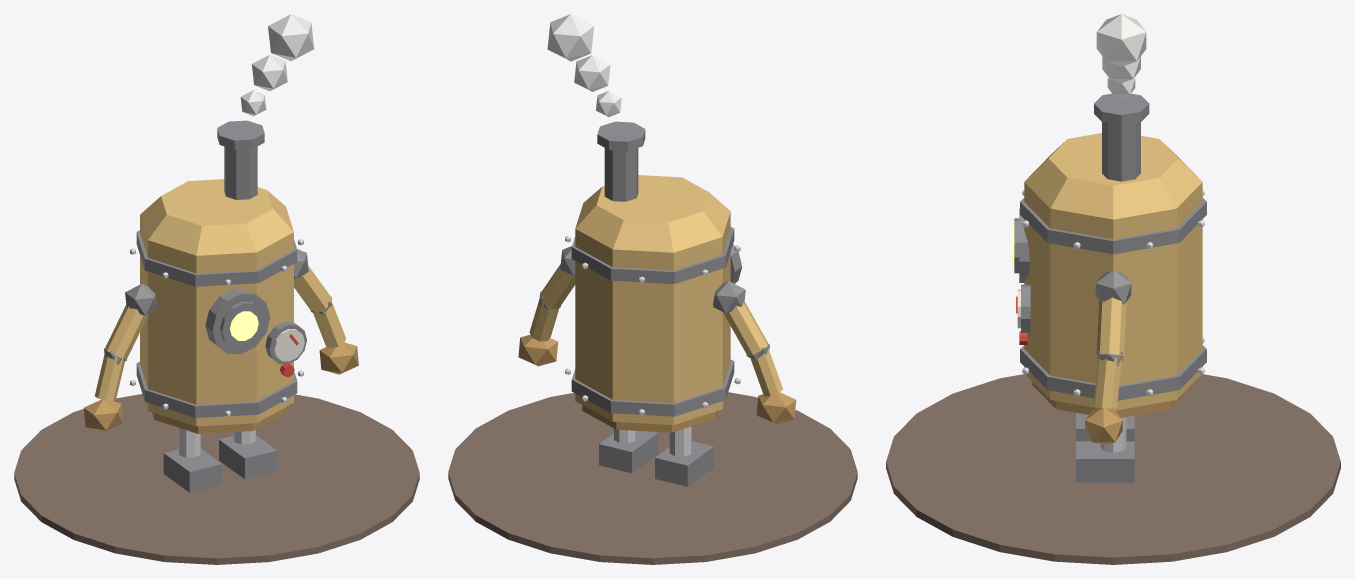
3 renders of one model, left to right at view 1: azimuth 30°, elevation 25°; view 2: azimuth 150°, elevation 25°; view 3: azimuth 270°, elevation 25°, orthographic. The views are drawn at different scales.
Visible parts, largest first — view 1: Ground, Body, Body_Top, Band_0, Band_1, Foot_L, Foot_R, Chimney, Eye_Frame, Steam_2, UpperArm_L, Chimney_Cap (+14 smaller); view 2: Ground, Body, Body_Top, Band_1, Band_0, Foot_L, Foot_R, Chimney, Steam_2, UpperArm_L, Chimney_Cap, Body_Bottom (+9 smaller); view 3: Ground, Body, Body_Top, Band_0, Band_1, Foot_R, Chimney, Steam_2, UpperArm_R, Chimney_Cap, LowerArm_R, Hand_R (+4 smaller).
Boxes of the visible parts, x1,y1,x2,y2 form: Ground: (14, 394, 419, 564); Body: (140, 215, 293, 426); Body_Top: (140, 179, 293, 255); Band_0: (136, 230, 297, 286); Band_1: (136, 361, 297, 417); Foot_L: (163, 448, 222, 492); Foot_R: (219, 435, 277, 479); Chimney: (224, 146, 257, 199); Eye_Frame: (205, 289, 269, 353); Steam_2: (268, 14, 314, 60); UpperArm_L: (105, 305, 148, 359); Chimney_Cap: (217, 120, 264, 149); Ground: (448, 392, 857, 564); Body: (575, 212, 730, 424); Body_Top: (575, 175, 730, 252); Band_1: (571, 359, 734, 416); Band_0: (571, 227, 734, 283); Foot_L: (655, 441, 713, 486); Foot_R: (599, 430, 658, 473); Chimney: (604, 148, 638, 201); Steam_2: (547, 14, 594, 61); UpperArm_L: (723, 302, 768, 356); Chimney_Cap: (597, 121, 645, 150); Body_Bottom: (582, 405, 718, 432); Ground: (886, 374, 1340, 564); Body: (1024, 182, 1202, 410); Body_Top: (1024, 133, 1202, 219); Band_0: (1020, 198, 1206, 254); Band_1: (1020, 345, 1206, 400); Foot_R: (1076, 441, 1134, 482); Chimney: (1102, 122, 1140, 181); Steam_2: (1096, 14, 1146, 66); UpperArm_R: (1096, 297, 1126, 356); Chimney_Cap: (1094, 93, 1149, 125); LowerArm_R: (1093, 357, 1121, 408); Hand_R: (1085, 408, 1122, 444).
Bounding box in the file's own units: 2.8 × 3.38 × 2.8.
